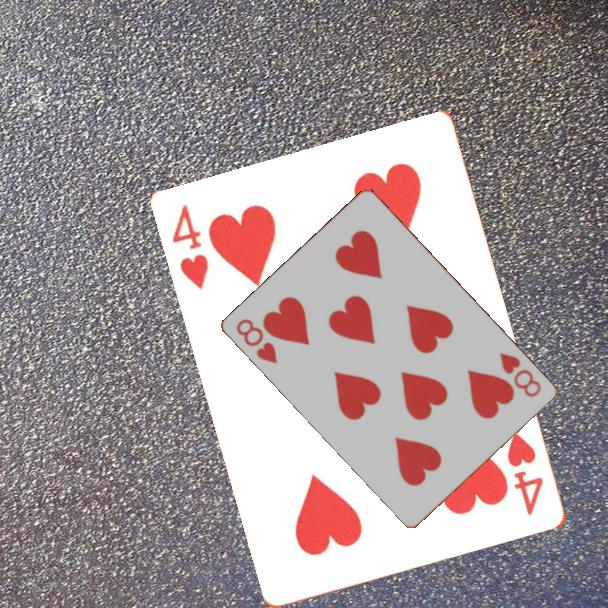h04: (169, 201, 212, 294), (504, 427, 547, 519)
h08: (233, 315, 281, 367), (497, 349, 545, 400)
